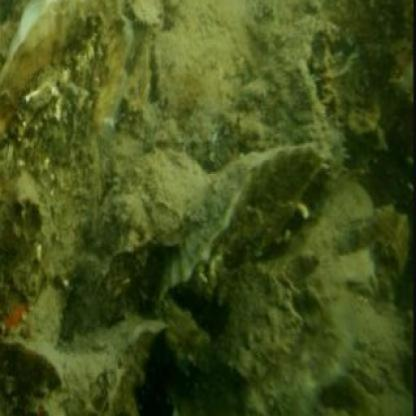Oyster- Indeterminate: (2, 0, 86, 99)
Oyster-Closed: (172, 149, 329, 301)
